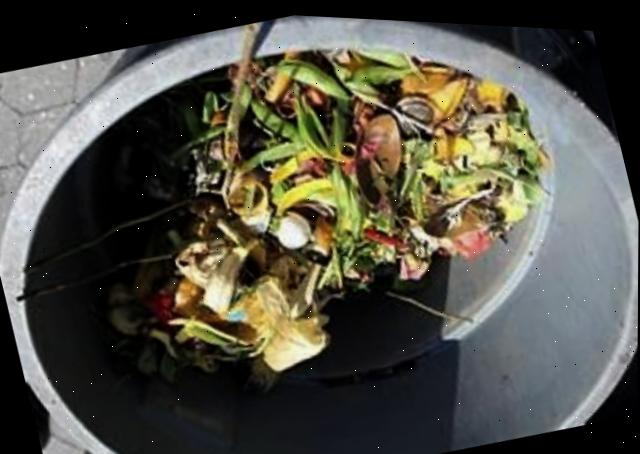Garbage: (94, 48, 560, 394)
